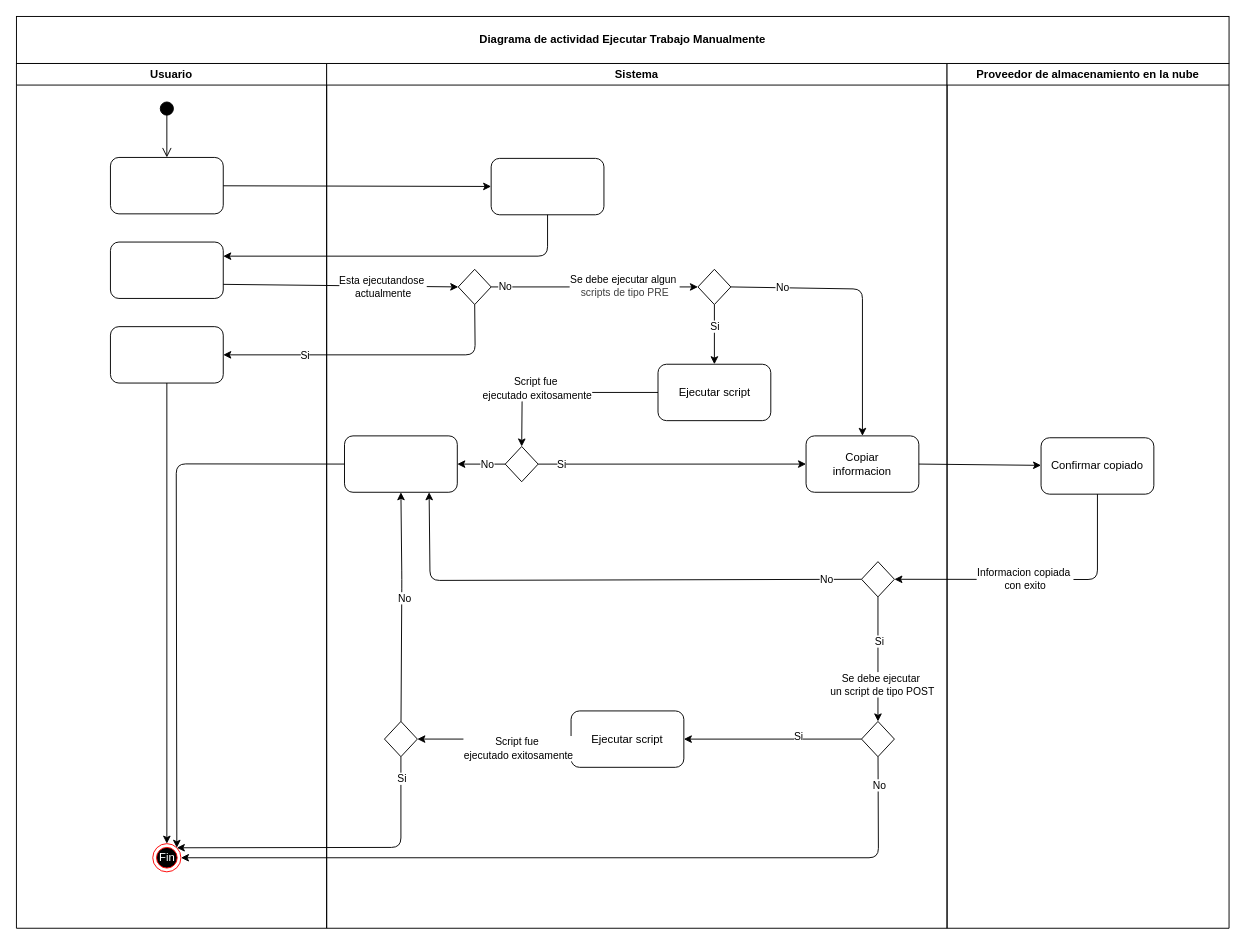
Some shapes in this 1246 by 945 pixel diagram are drawn without their labels. Each missing label, with the centre of its shape:
"Ejecutar trabajo manualmente" belongs at (x=166, y=269).
"Indicar que ya encuentra en ejecucion" belongs at (x=166, y=354).
"Iniciar sesion" belongs at (x=166, y=185).
"Reportar el error" belongs at (x=400, y=463).
"Ver Trabajos" belongs at (x=547, y=186).
